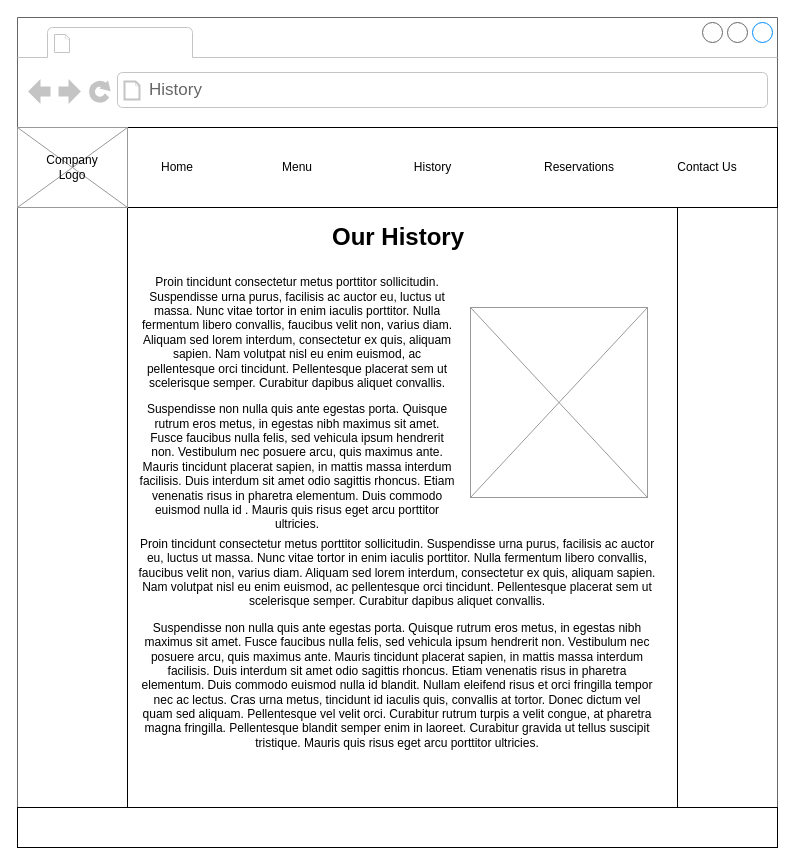
This 795x865 diagram has some shape labels left out. The shapes that lost their labels are listed below. From the top down, each one's centre as x and y in pixels, then its label:
At (x=132, y=42): "Page 1".
At (x=397, y=827): "Company phone # . Address .".
